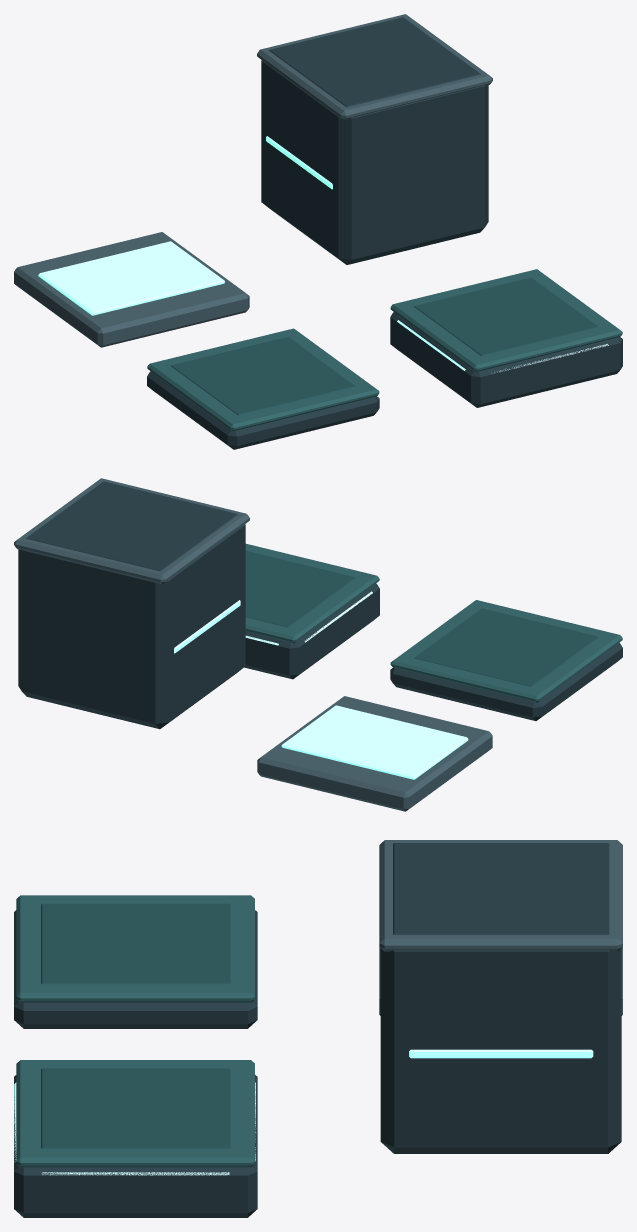
The model's file is terrain-kit.glb.
3 renders of one model, top to bottom at view 1: azimuth 30°, elevation 25°; view 2: azimuth 150°, elevation 25°; view 3: azimuth 270°, elevation 25°, orthographic. The views are drawn at different scales.
Visible parts, largest first — view 1: Bulkhead, Metal edge, Support slab.001, Inset panel.001, Inset panel, Integrated light, Walkable panel, Walkable panel.001, Support slab, Cap; view 2: Bulkhead, Metal edge, Inset panel, Integrated light, Walkable panel, Inset panel.001, Support slab.001, Support slab, Cap, Walkable panel.001; view 3: Bulkhead, Inset panel, Inset panel.001, Support slab.001, Walkable panel.001, Walkable panel, Cap, Support slab, Vertical seam.001, Side inset light.001.
Part boxes in pixels (<box>): Bulkhead: <box>261,17,488,264</box>; Metal edge: <box>14,232,249,347</box>; Support slab.001: <box>390,312,622,407</box>; Inset panel.001: <box>414,277,599,356</box>; Inset panel: <box>171,337,355,415</box>; Integrated light: <box>38,241,224,315</box>; Walkable panel: <box>147,328,379,431</box>; Walkable panel.001: <box>390,269,622,371</box>; Support slab: <box>147,371,379,449</box>; Cap: <box>257,14,492,120</box>; Bulkhead: <box>18,481,245,729</box>; Metal edge: <box>257,696,492,811</box>; Inset panel: <box>414,608,599,686</box>; Integrated light: <box>281,705,468,779</box>; Walkable panel: <box>390,600,622,702</box>; Inset panel.001: <box>245,550,355,627</box>; Support slab.001: <box>244,583,379,679</box>; Support slab: <box>390,642,622,720</box>; Cap: <box>14,478,249,584</box>; Walkable panel.001: <box>245,543,379,643</box>; Bulkhead: <box>380,843,621,1153</box>; Inset panel: <box>41,903,230,984</box>; Inset panel.001: <box>41,1068,230,1148</box>; Support slab.001: <box>14,1075,257,1217</box>; Walkable panel.001: <box>16,1060,254,1167</box>; Walkable panel: <box>16,895,254,1002</box>; Cap: <box>379,840,622,951</box>; Support slab: <box>14,910,257,1028</box>; Vertical seam.001: <box>409,1049,593,1058</box>; Side inset light.001: <box>42,1172,229,1175</box>.
Bounding box in the file's own units: 2.6 × 1.28 × 2.5.
